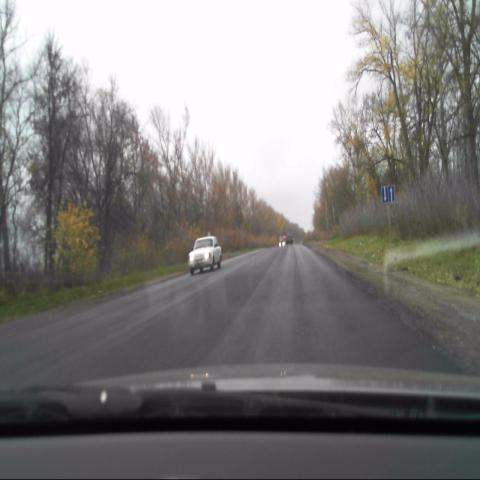5_15_7: (382, 184, 395, 202)
